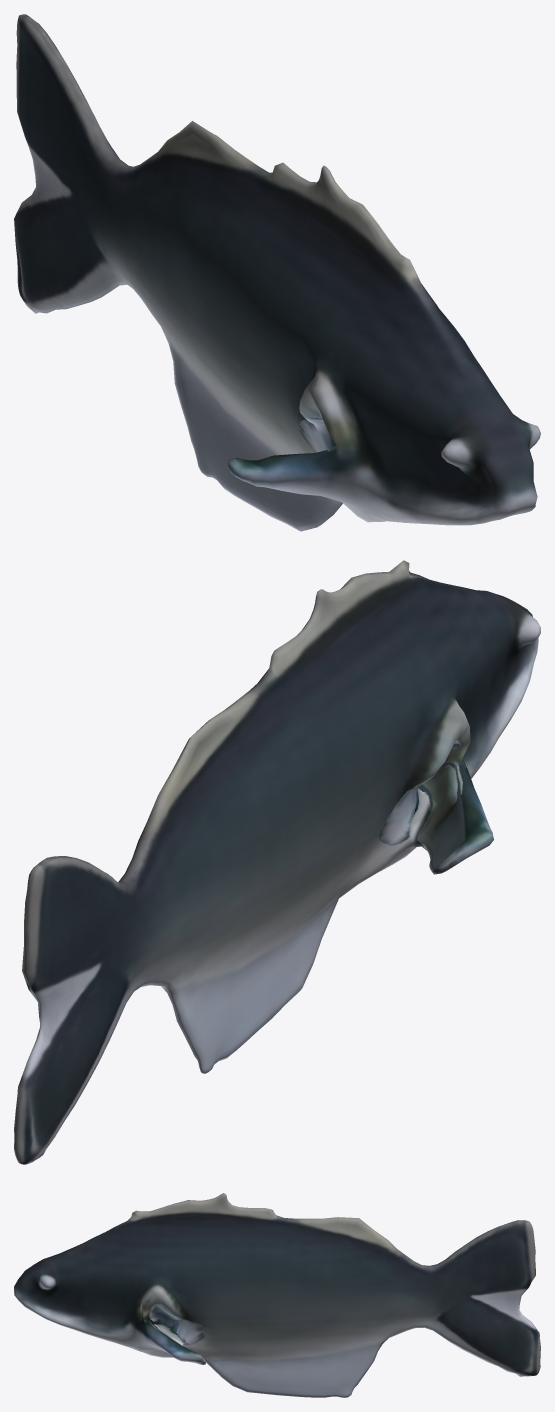
Rendered from fish_10.glb.
3 views of the same model, one above another, from view 1: azimuth 30°, elevation 25°; view 2: azimuth 150°, elevation 25°; view 3: azimuth 270°, elevation 25° (orthographic). The views are drawn at different scales.
Visible parts, largest first — view 1: mesh; view 2: mesh; view 3: mesh.
Part boxes in pixels (x1,y1,x2,y2): mesh: [14, 14, 540, 531]; mesh: [14, 560, 540, 1164]; mesh: [14, 1193, 540, 1397].
Size of the model in its own units: 0.2974 by 0.4289 by 0.9967.
1 material, 1 textured.
